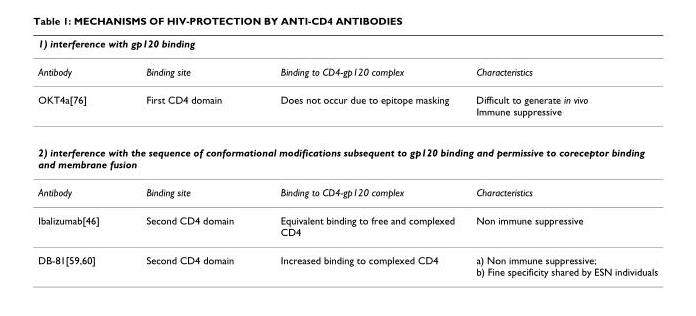table: (37, 37, 657, 277)
table column: (256, 37, 464, 277), (464, 37, 657, 277), (122, 37, 256, 277), (37, 37, 122, 277)
table column header: (37, 37, 657, 85)
table projected row header: (37, 131, 657, 177)
table row: (37, 85, 657, 131), (37, 131, 657, 177), (37, 205, 657, 245), (37, 245, 657, 277), (37, 57, 657, 85), (37, 177, 657, 205), (37, 37, 657, 57)
table spanning cell: (37, 37, 657, 57)
